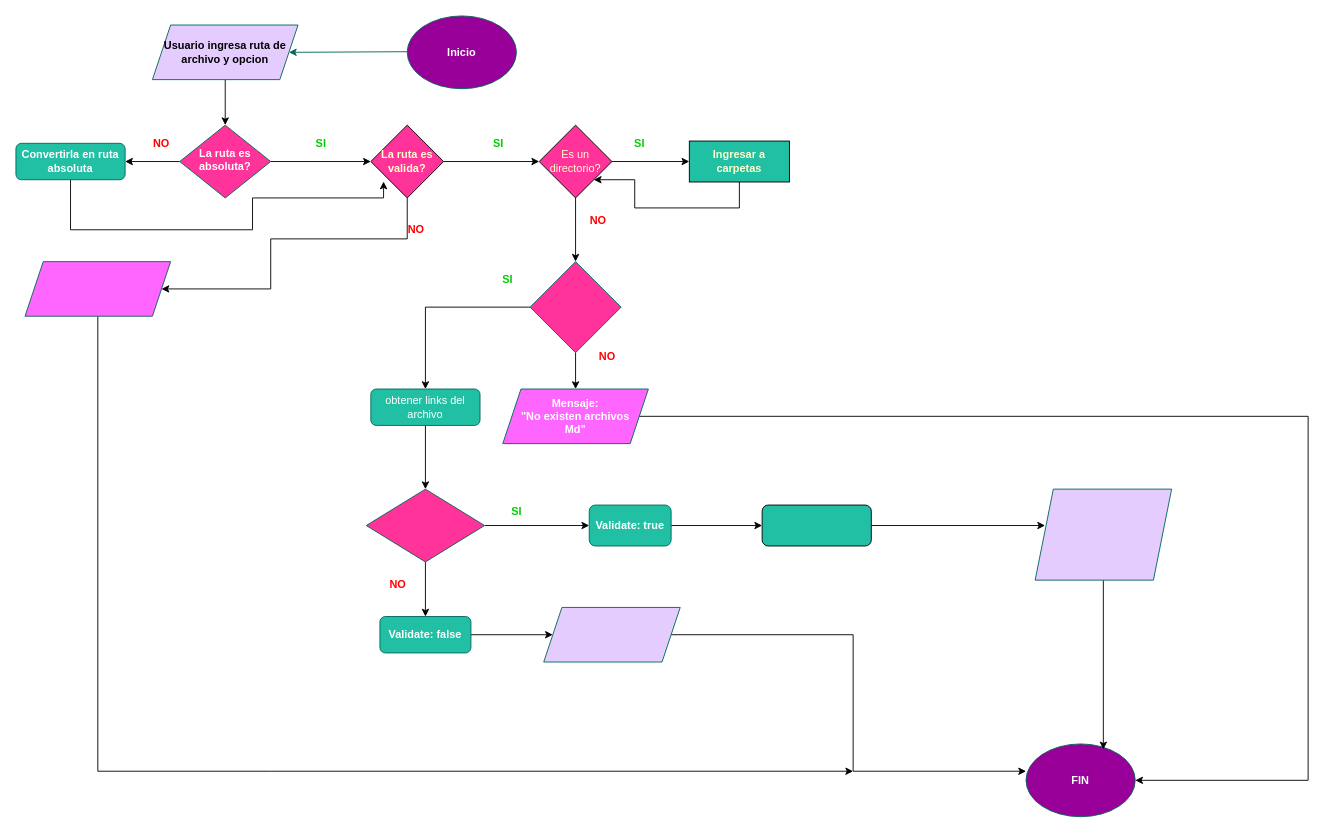
The diagram is 1331 pixels wide and 833 high, and some of its shapes have lost their labels. Here are the shapes that lost their labels. From the top down, the box of each, then its label:
(24, 261, 171, 316): Mensaje: "Ruta no es valida"
(529, 261, 621, 353): El archivo es md?
(365, 488, 485, 562): Usuario Ingreso opcion?
(761, 504, 871, 546): Validar links
(1034, 488, 1172, 580): Mostrar resultados: href text file Status ok: fail - ok
(543, 607, 680, 662): Mostrar resultados: href text file
